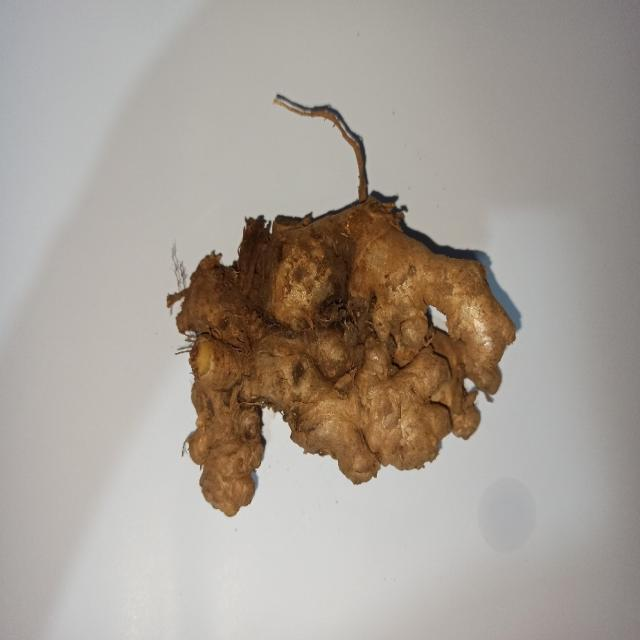ginger: (175, 193, 518, 518)
